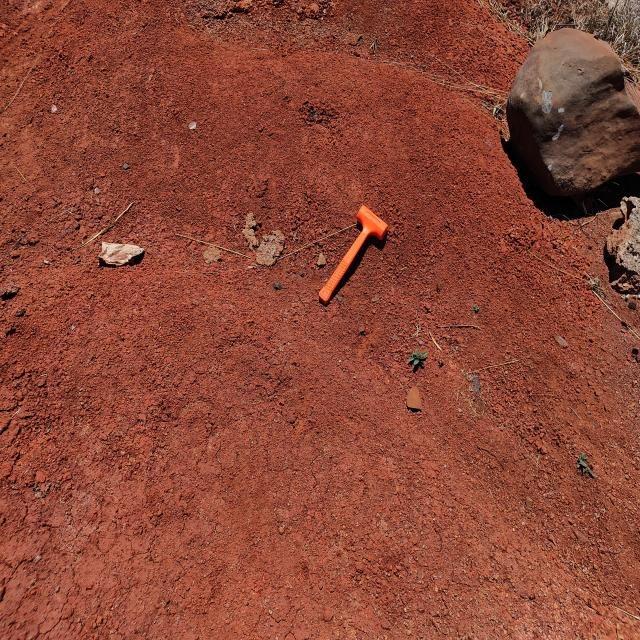Orange_hammer: (317, 204, 389, 306)
